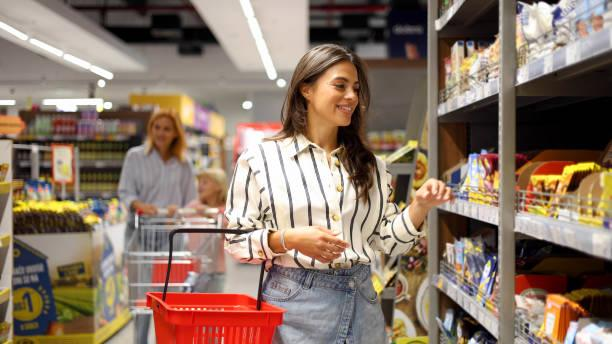Cart: (124, 208, 220, 323)
Person: (223, 44, 453, 343), (118, 109, 197, 216)
article: (543, 294, 586, 341), (479, 260, 490, 297)
cage: (147, 292, 284, 343)
